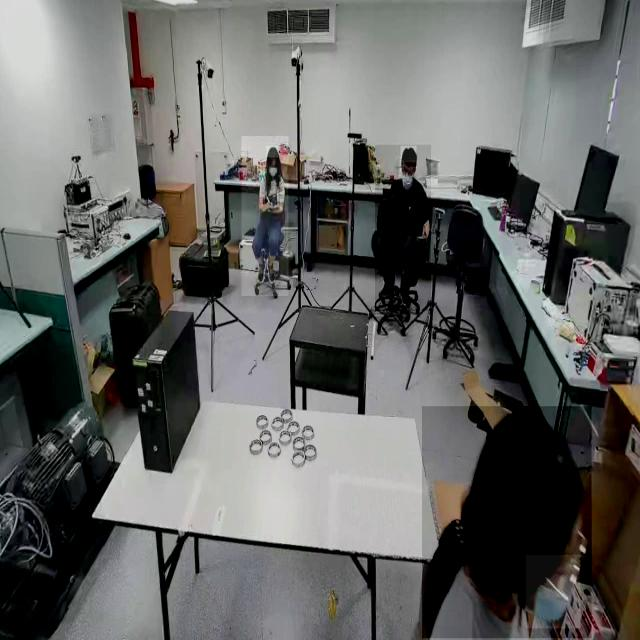face_mask: (525, 555, 581, 629), (399, 160, 415, 195), (268, 157, 282, 186)
hand_noglove: (263, 199, 272, 211)
head_nohelmet: (401, 146, 417, 163), (266, 146, 279, 158)
person: (422, 406, 592, 639), (375, 145, 431, 312), (241, 136, 289, 297)
shoes: (398, 274, 411, 308), (378, 274, 393, 300), (266, 261, 278, 287), (256, 257, 266, 282)
